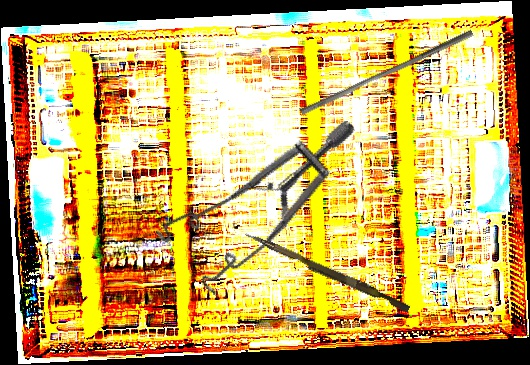Pusher: (299, 22, 474, 122), (241, 231, 413, 313)
Speculum: (142, 69, 357, 321)
